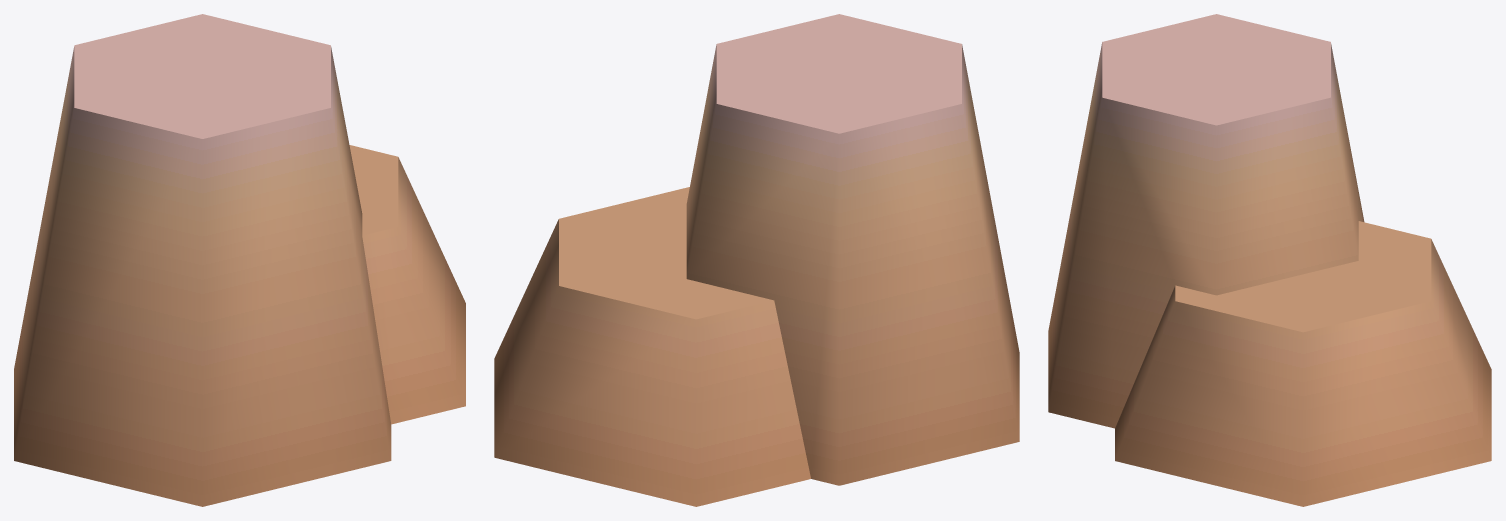
File: resource-stone.glb
3 renders of one model, left to right at view 1: azimuth 30°, elevation 25°; view 2: azimuth 150°, elevation 25°; view 3: azimuth 270°, elevation 25°, orthographic. The views are drawn at different scales.
Parts seen in each view (by area): view 1: resource-stone; view 2: resource-stone; view 3: resource-stone.
Part boxes in pixels (x1,y1,x2,y2): resource-stone: [14, 14, 465, 506]; resource-stone: [494, 14, 1019, 506]; resource-stone: [1048, 14, 1491, 506].
Bounding box in the file's own units: 0.1653 × 0.1068 × 0.1422.
1 material, 1 textured.
